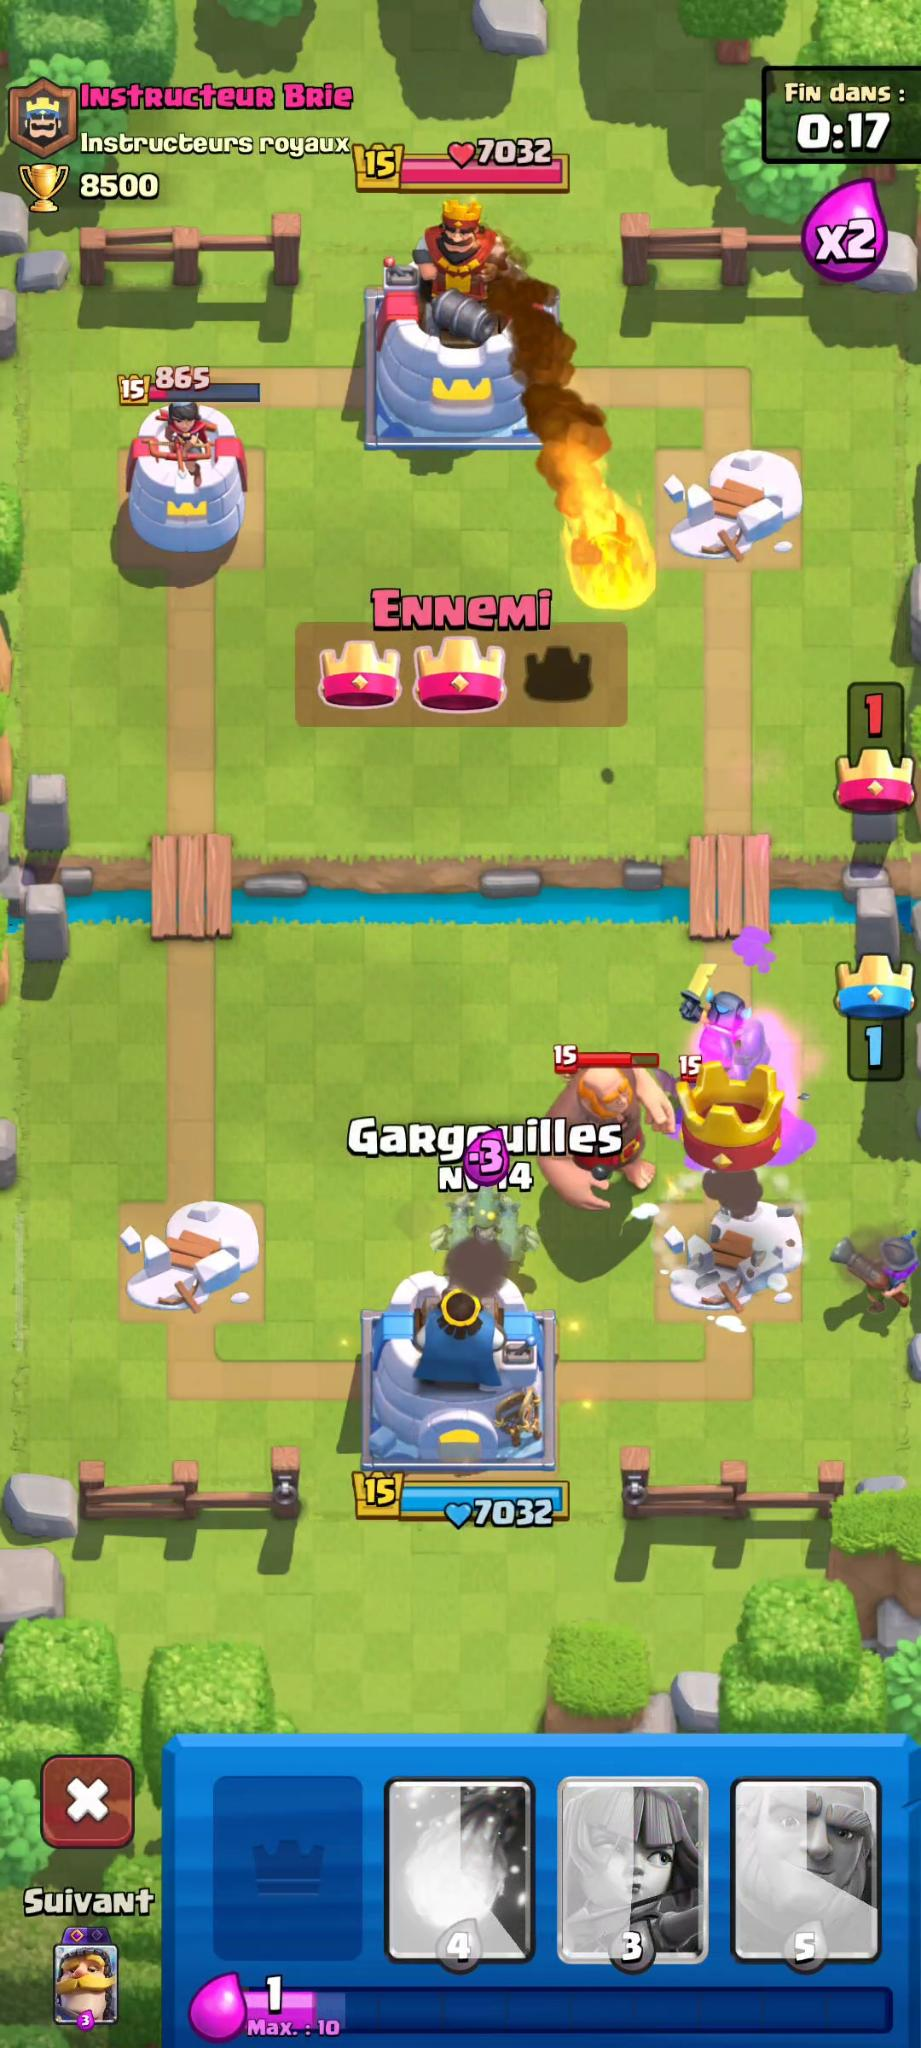geant: (550, 1050, 681, 1191)
mini_PEKKA: (665, 953, 785, 1089)
